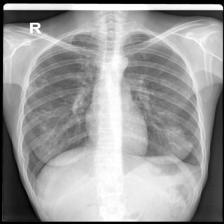tuberculosis: (15, 26, 207, 215)
